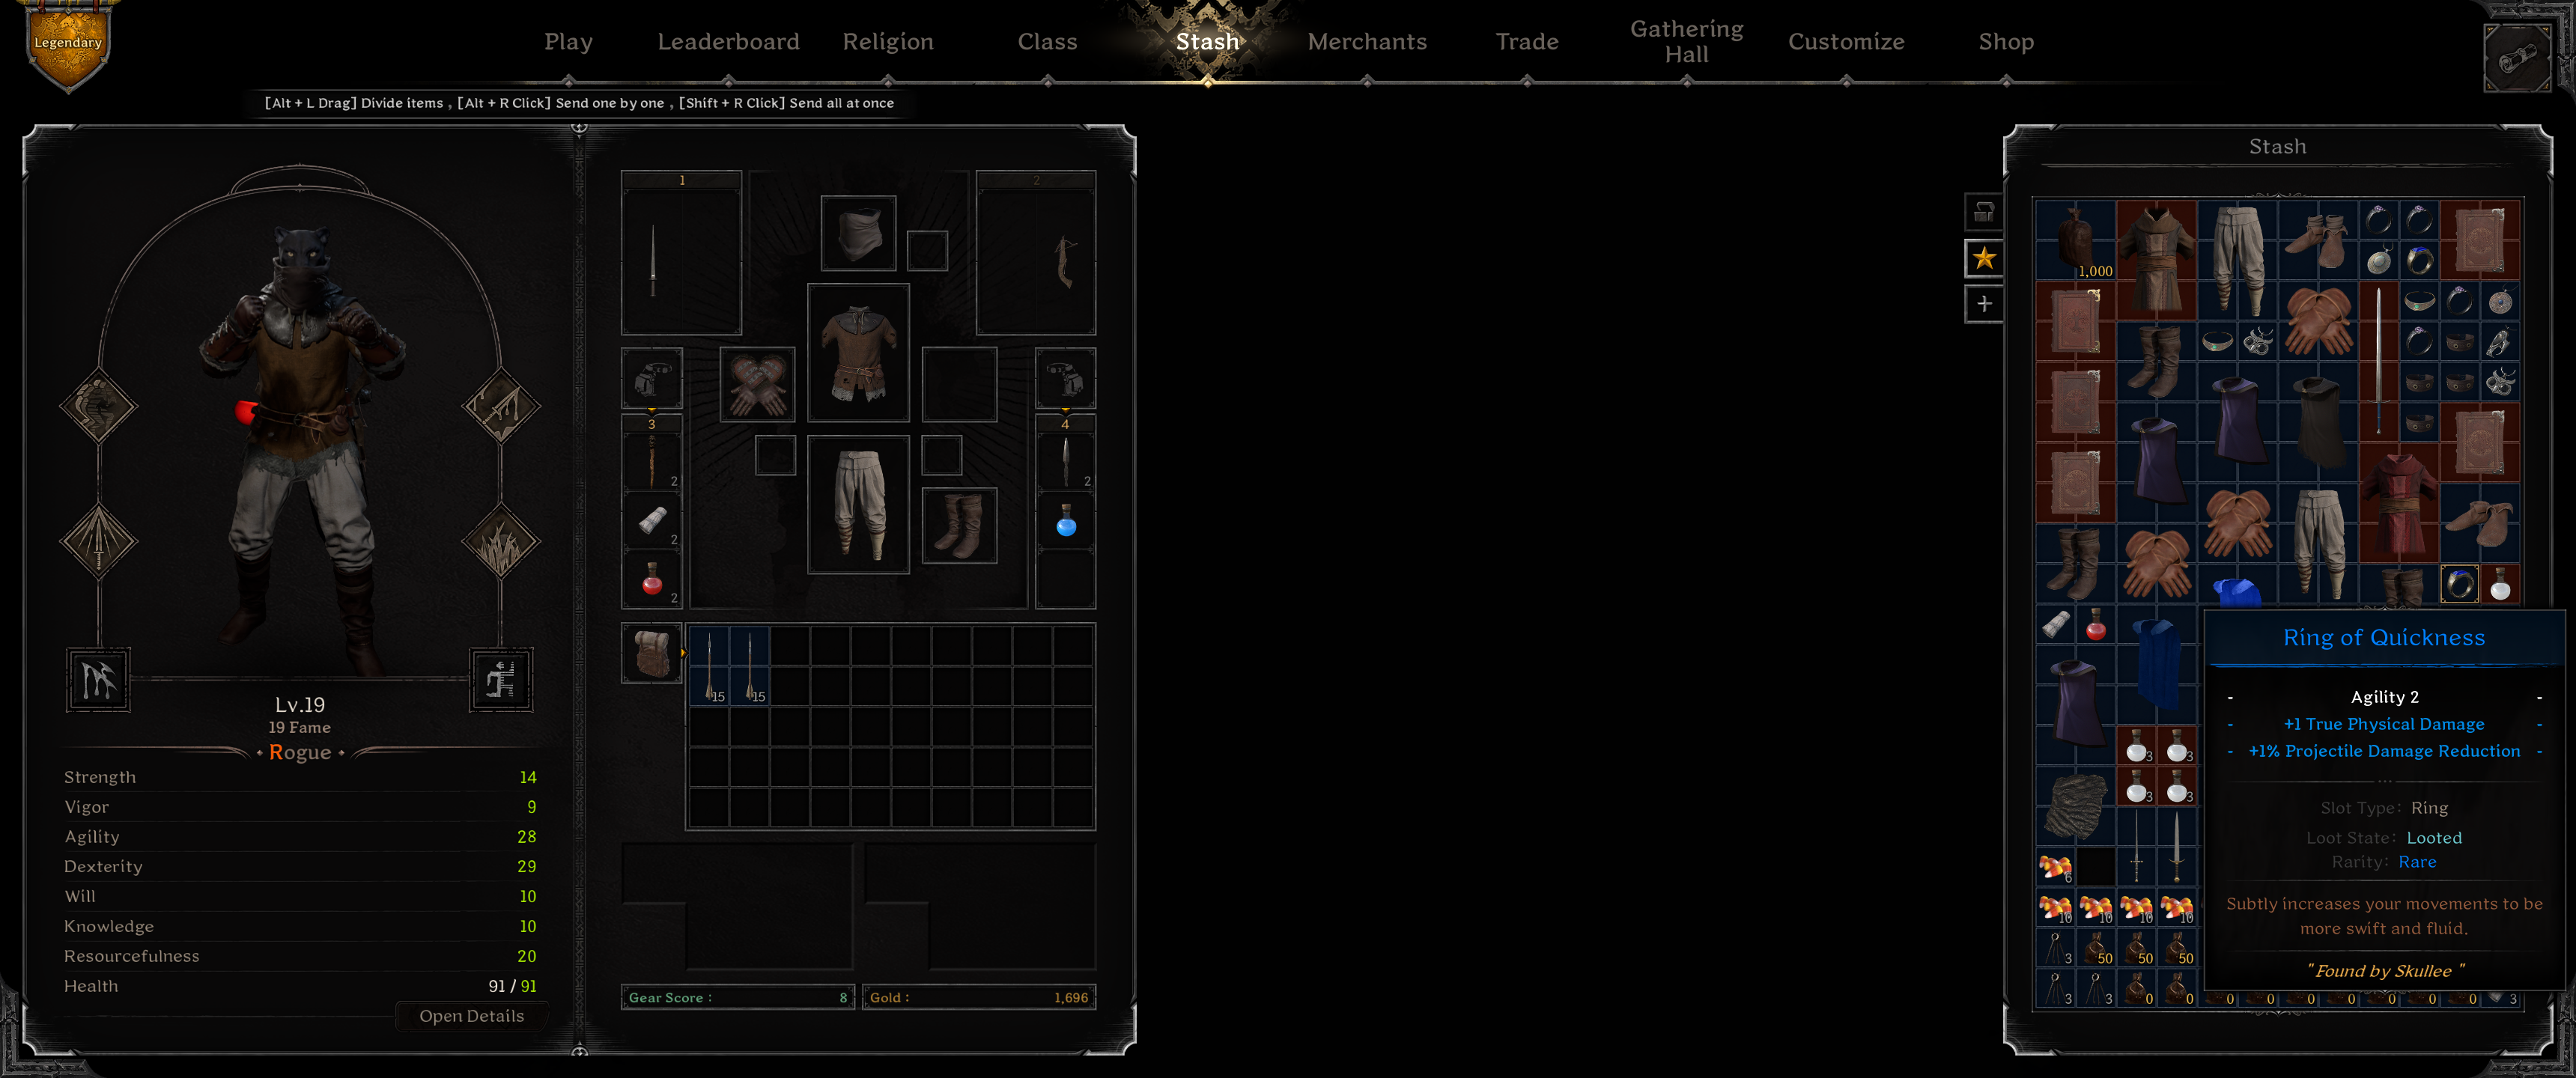Tooltip: (2203, 608, 2568, 994)
